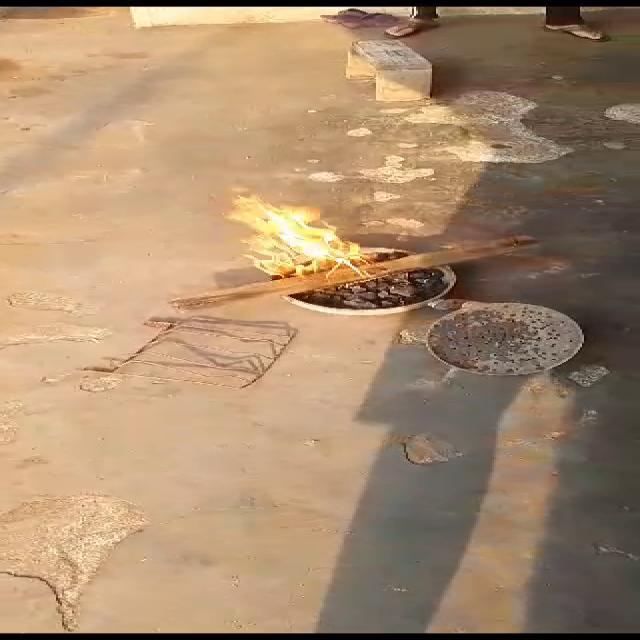Fire: (216, 190, 395, 288)
